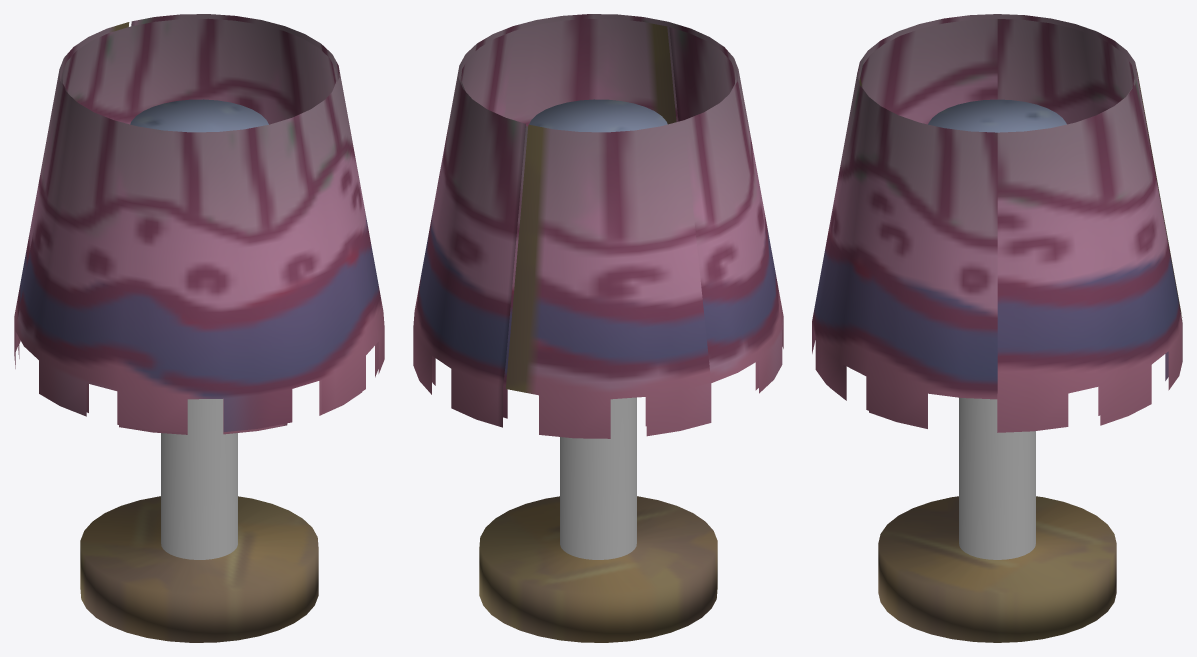
Rendered from Lampada.fbx.
3 renders of one model, left to right at view 1: azimuth 30°, elevation 25°; view 2: azimuth 150°, elevation 25°; view 3: azimuth 270°, elevation 25°, orthographic.
Visible parts, largest first — view 1: Lampada; view 2: Lampada; view 3: Lampada.
Part boxes in pixels (x1=…): Lampada: x1=14, y1=14, x2=384, y2=642; Lampada: x1=413, y1=14, x2=783, y2=642; Lampada: x1=812, y1=14, x2=1182, y2=642.
Size of the model in its own units: 48.01 by 48.01 by 74.18.
